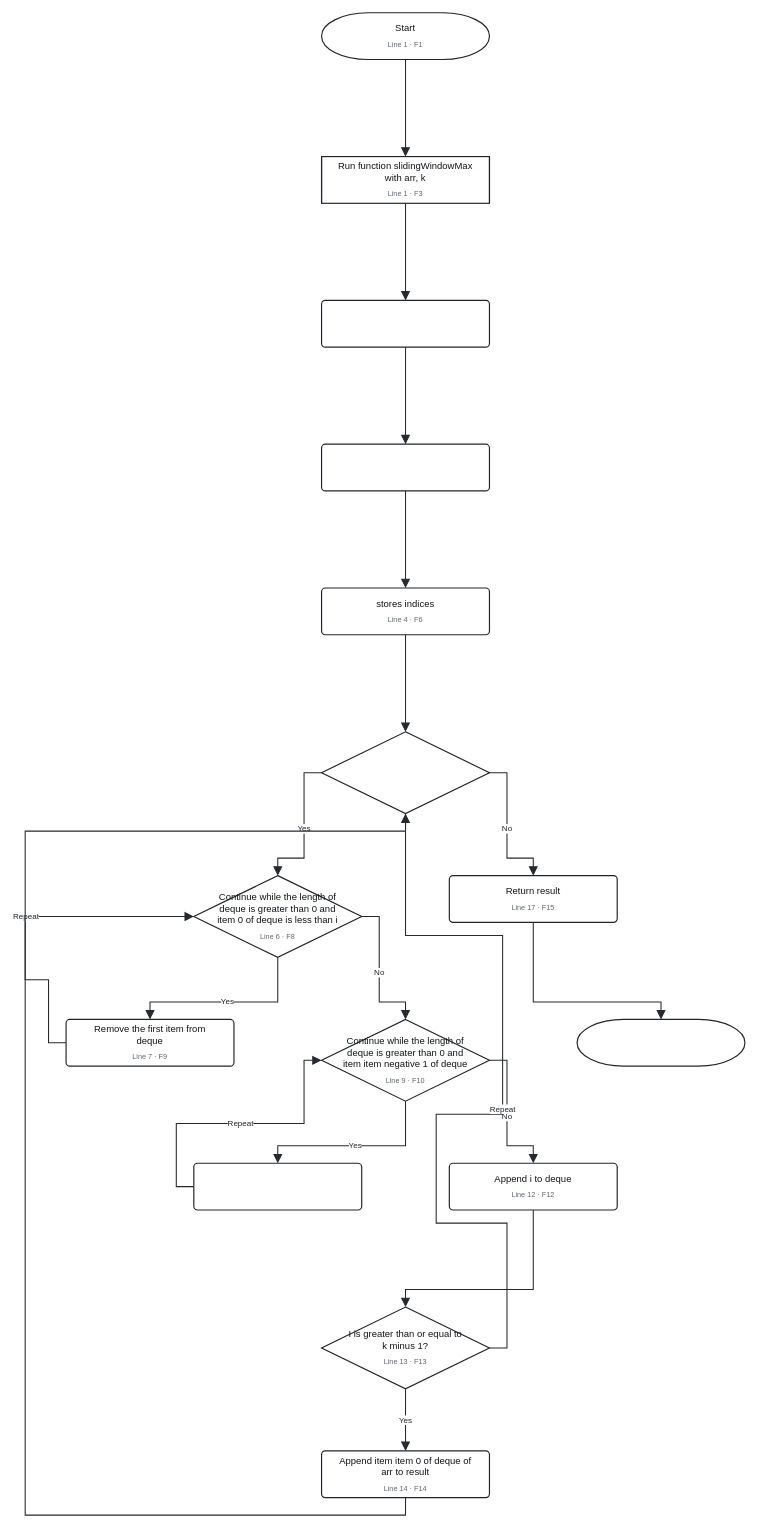
Some shapes in this 758 by 1529 pixel diagram are drawn without their labels. Here are the shapes that lost their labels. From the top down, the box of each, then its label:
(321, 299, 490, 347): Set result to an empty list Line 2 · F4
(321, 443, 490, 491): Set deque to an empty list Line 3 · F5
(321, 731, 490, 814): For i from 0 to the length of arr minus 1 plus 1 Line 5 · F7
(576, 1018, 745, 1066): End Line 1 · F2
(193, 1162, 362, 1210): Remove the last item from deque Line 10 · F11
